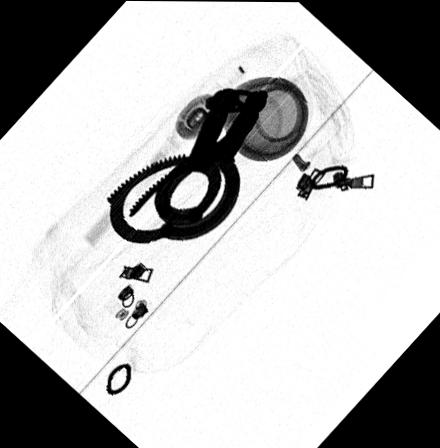HandCuffs: (105, 84, 271, 246)
